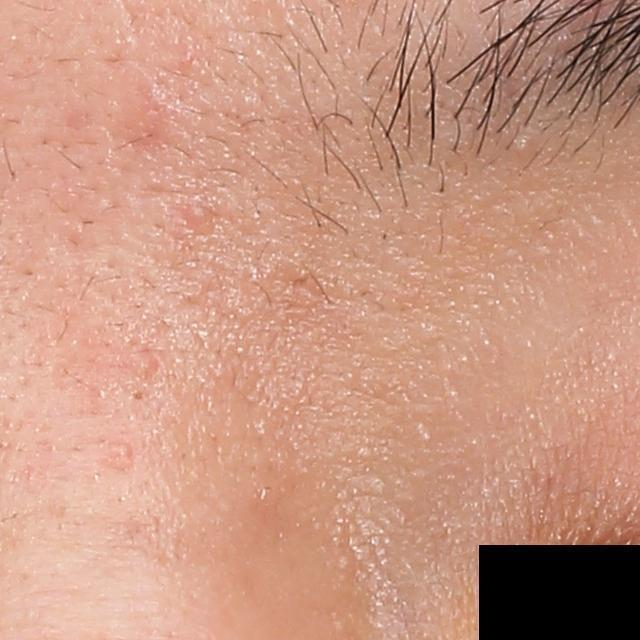comedo: (191, 206, 211, 225), (130, 387, 150, 405)
